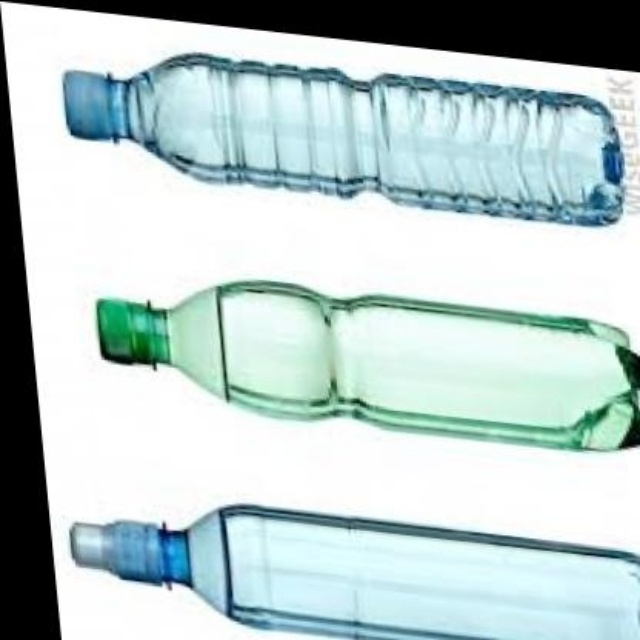trash: (63, 54, 623, 223), (97, 282, 638, 448), (71, 505, 638, 638)
